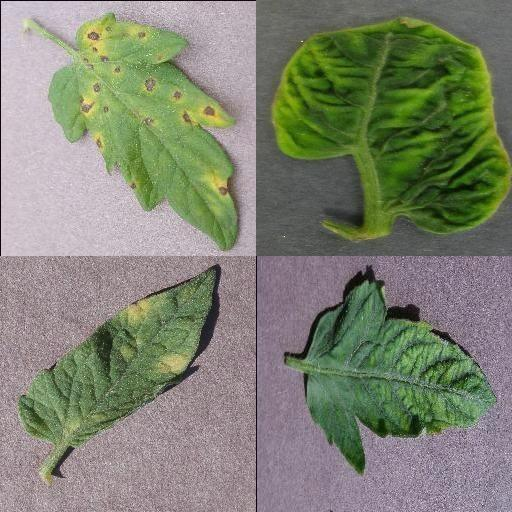Leaf Mold: (17, 266, 217, 448)
Mosaic Virus: (304, 278, 500, 478)
Septoria: (48, 14, 237, 252)
Yellow Leaf Curl Virus: (270, 15, 512, 237)
